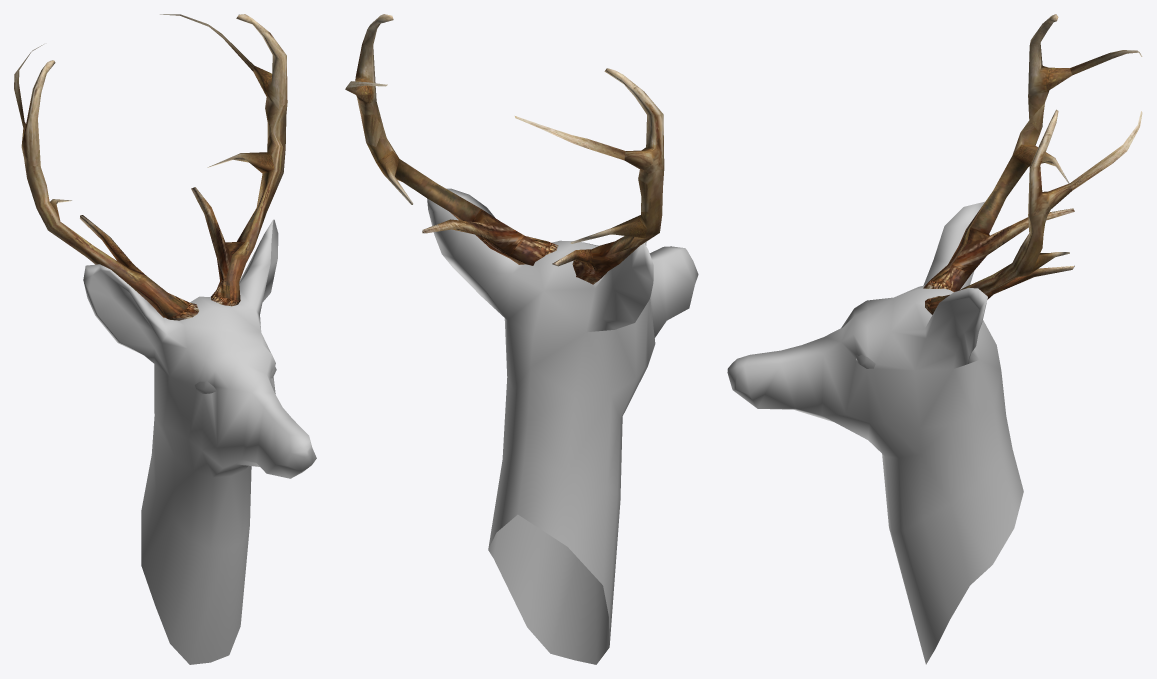
The model's file is deerHead.obj.
The picture shows the model from 3 angles, left to right: view 1: azimuth 30°, elevation 25°; view 2: azimuth 150°, elevation 25°; view 3: azimuth 270°, elevation 25°; orthographic projection. The views are drawn at different scales.
Parts seen in each view (by area): view 1: Deer; view 2: Deer; view 3: Deer.
Boxes of the visible parts, box(x1,y1,x2,y2) form: Deer: box(14, 14, 316, 664); Deer: box(345, 14, 698, 664); Deer: box(727, 14, 1142, 664).
Size of the model in its own units: 1.01 by 2.16 by 1.37.
